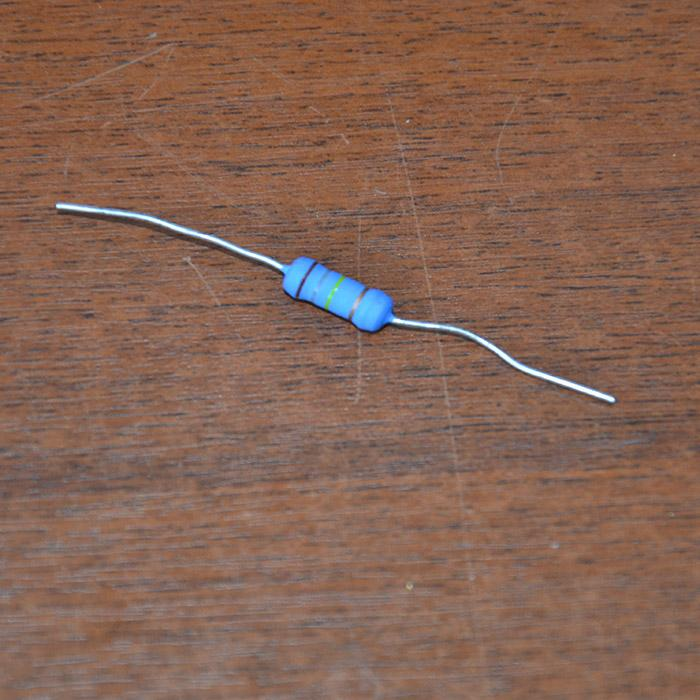resistor: (281, 255, 393, 331)
